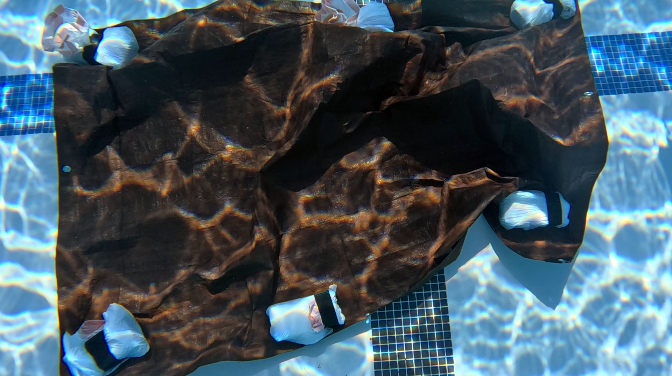sandbag: (39, 0, 604, 375)
